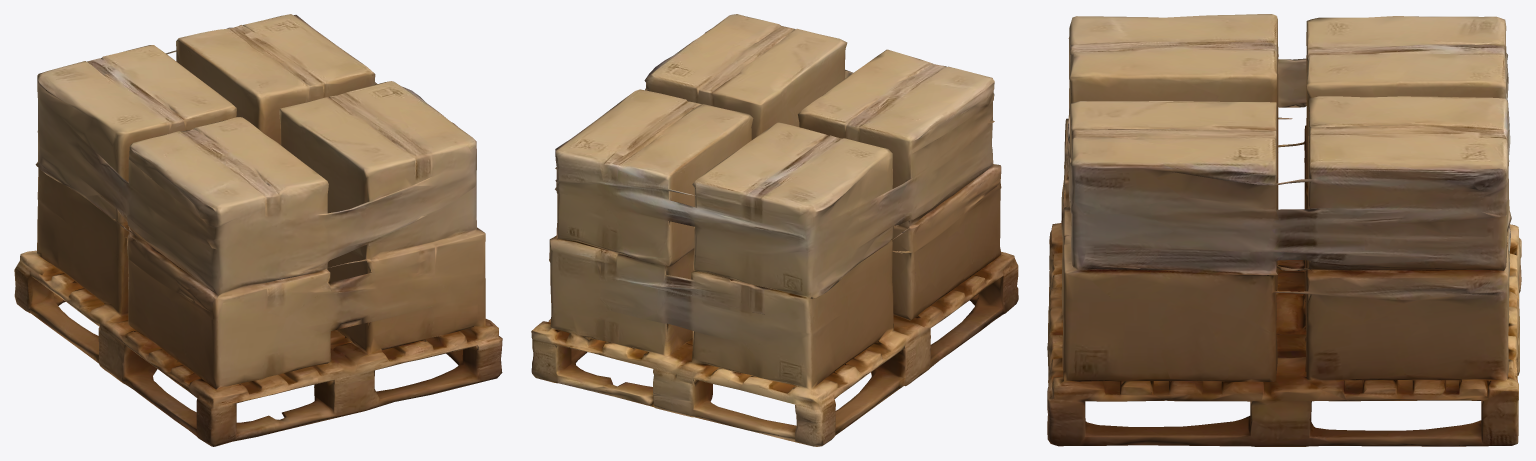
The model's file is pallet.glb.
3 renders of one model, left to right at view 1: azimuth 30°, elevation 25°; view 2: azimuth 150°, elevation 25°; view 3: azimuth 270°, elevation 25°, orthographic. The views are drawn at different scales.
Parts seen in each view (by area): view 1: tripo_node_e609bdb4-7112-4a18-8e5c-2e575fe09af0; view 2: tripo_node_e609bdb4-7112-4a18-8e5c-2e575fe09af0; view 3: tripo_node_e609bdb4-7112-4a18-8e5c-2e575fe09af0.
Boxes of the visible parts, x1,y1,x2,y2 form: tripo_node_e609bdb4-7112-4a18-8e5c-2e575fe09af0: [14, 14, 502, 446]; tripo_node_e609bdb4-7112-4a18-8e5c-2e575fe09af0: [531, 14, 1018, 446]; tripo_node_e609bdb4-7112-4a18-8e5c-2e575fe09af0: [1047, 14, 1521, 446].
Size of the model in its own units: 0.84 by 0.6443 by 1.
Materials: 1 (1 with a texture image).
